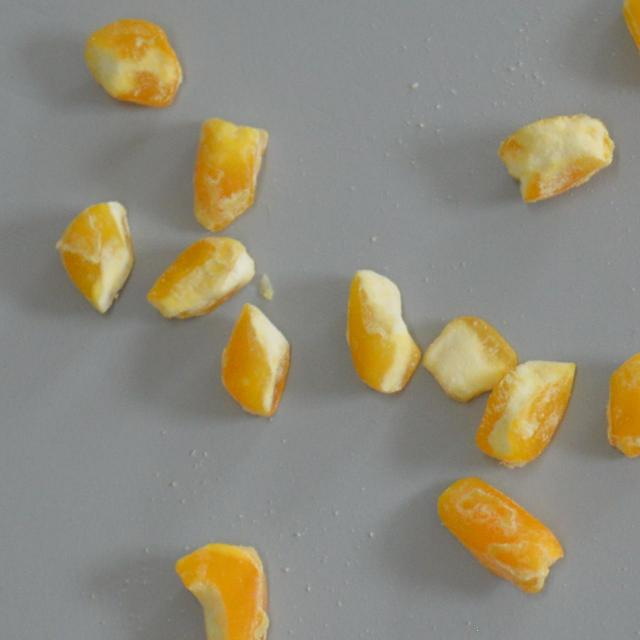estandar: (420, 313, 514, 401)
pelicula: (434, 474, 568, 594), (472, 358, 577, 468), (494, 110, 618, 203), (81, 14, 187, 113), (343, 268, 422, 397), (170, 542, 270, 640), (218, 300, 292, 422), (48, 199, 124, 317), (190, 113, 263, 232), (162, 220, 234, 333), (607, 348, 640, 456), (620, 0, 640, 88)
